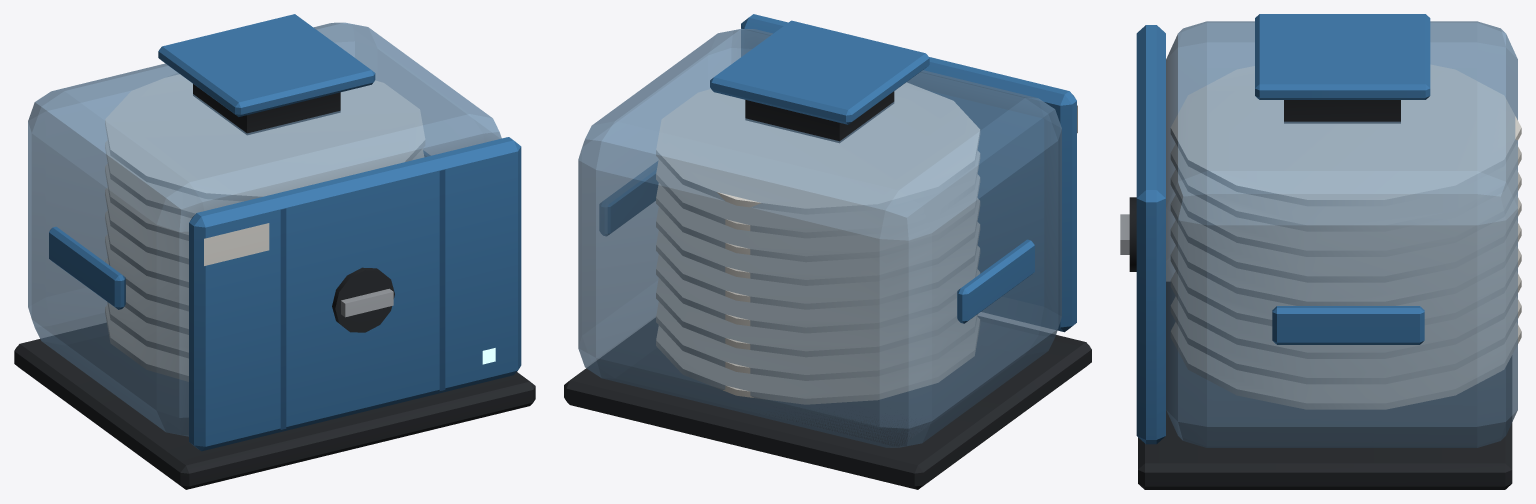
Rendered from waferPod.glb.
The picture shows the model from 3 angles, left to right: view 1: azimuth 30°, elevation 25°; view 2: azimuth 150°, elevation 25°; view 3: azimuth 270°, elevation 25°; orthographic projection. The views are drawn at different scales.
Parts seen in each view (by area): view 1: waferPod; view 2: waferPod; view 3: waferPod.
Part boxes in pixels (left/top/right/bottom): waferPod: left=14, top=14, right=535, bottom=489; waferPod: left=564, top=14, right=1091, bottom=489; waferPod: left=1120, top=14, right=1521, bottom=489.
Bounding box in the file's own units: 0.39 × 0.33 × 0.343.
